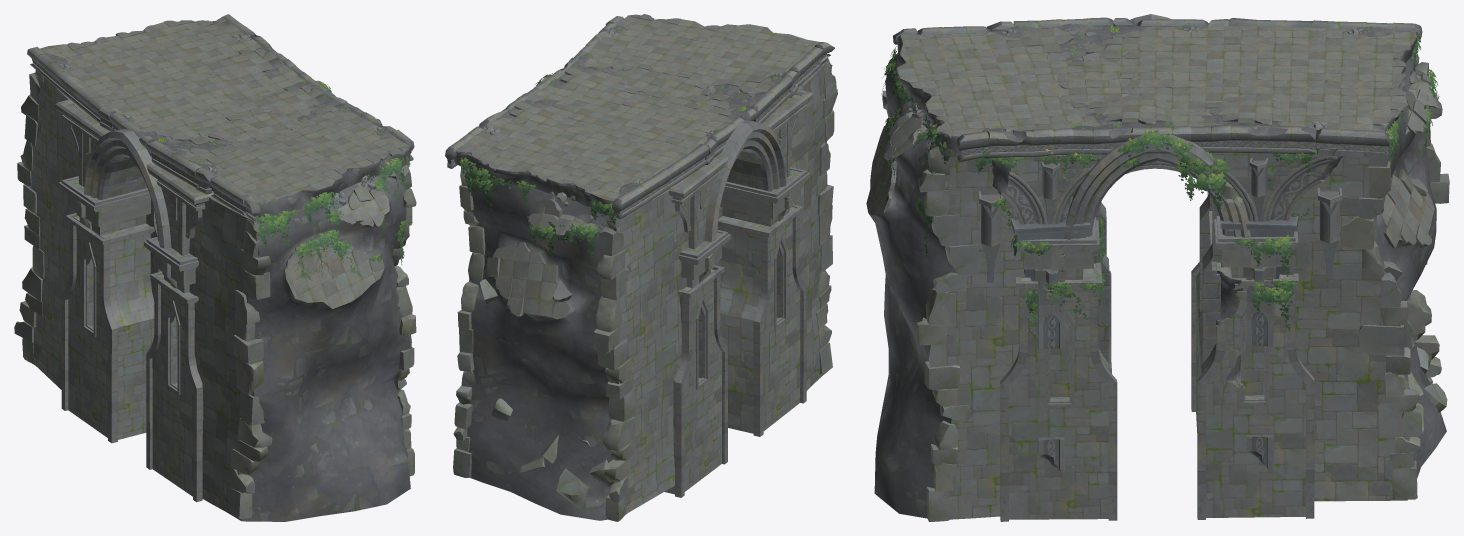
File: SkillObj_Monster_Dvalin_Platform_03.fbx
3 views of the same model, side by side, from view 1: azimuth 30°, elevation 25°; view 2: azimuth 150°, elevation 25°; view 3: azimuth 270°, elevation 25° (orthographic). The views are drawn at different scales.
Visible parts, largest first — view 1: Area_MdBuild_SdArch01_01_Wall01_Lod0, Area_MdBuild_SdBridge13_Lod0.001, Area_MdBuild_SdArch01_01_Edge01_Lod0, Area_MdBuild_SdRuins07_07_Lod0, Area_MdBuild_SdWall01_08_Lod0, Area_MdBuild_SdWall01_08_Lod0.001, Area_MdProps_SdRock01_05_Lod0.015, Area_MdProps_SdRock01_01_Lod0.016, Area_MdProps_SdRock01_01_Lod0.015, Area_MdProps_SdRock01_03_Lod0.008, Area_MdProps_SdRock01_01_Lod0.022, Area_MdBuild_SdWall03_09_Vo (+7 smaller); view 2: Area_MdBuild_SdArch01_01_Wall01_Lod0, Area_MdBuild_SdBridge13_Lod0.001, Area_MdBuild_SdArch01_01_Edge01_Lod0, Area_MdBuild_SdRuins07_07_Lod0, Area_MdBuild_SdWall01_08_Lod0, Area_MdBuild_SdWall01_08_Lod0.001, Area_MdProps_SdRock01_03_Lod0.006, Area_MdProps_SdRock01_02_Lod0.008, Area_MdProps_SdRock01_03_Lod0.001, Area_MdProps_SdRock01_01_Lod0.020, Area_MdProps_SdRock01_01_Lod0.012, Area_MdProps_SdRock01_03_Lod0.016 (+9 smaller); view 3: Area_MdBuild_SdArch01_01_Wall01_Lod0, Area_MdBuild_SdBridge13_Lod0.001, Area_MdBuild_SdArch01_01_Edge01_Lod0, Area_MdBuild_SdArch06_02_Lod0, Area_MdBuild_SdArch06_04_Lod0, Area_MdBuild_SdRuins07_07_Lod0, Area_MdBuild_SdArch06_01_Lod0, Area_MdBuild_SdWall01_08_Lod0, Area_MdProps_SdPillar02_02_Lod0, Area_MdBuild_SdWall01_08_Lod0.001, Area_MdProps_SdPillar02_02_Lod0.001, Area_MdProps_SdWall_Item01_01_Lod0.001 (+23 smaller).
Part boxes in pixels (x1,y1,x2,y2): Area_MdBuild_SdArch01_01_Wall01_Lod0: (29,77,411,521); Area_MdBuild_SdBridge13_Lod0.001: (27,14,414,220); Area_MdBuild_SdArch01_01_Edge01_Lod0: (55,80,327,502); Area_MdBuild_SdRuins07_07_Lod0: (208,109,312,142); Area_MdBuild_SdWall01_08_Lod0: (223,85,324,118); Area_MdBuild_SdWall01_08_Lod0.001: (175,49,278,82); Area_MdProps_SdRock01_05_Lod0.015: (236,357,264,394); Area_MdProps_SdRock01_01_Lod0.016: (234,335,263,364); Area_MdProps_SdRock01_01_Lod0.015: (243,270,270,299); Area_MdProps_SdRock01_03_Lod0.008: (237,418,272,447); Area_MdProps_SdRock01_01_Lod0.022: (239,390,264,425); Area_MdBuild_SdWall03_09_Vo: (176,147,228,165); Area_MdBuild_SdArch01_01_Wall01_Lod0: (466,59,831,520); Area_MdBuild_SdBridge13_Lod0.001: (445,15,834,219); Area_MdBuild_SdArch01_01_Edge01_Lod0: (540,76,813,497); Area_MdBuild_SdRuins07_07_Lod0: (611,65,710,99); Area_MdBuild_SdWall01_08_Lod0: (559,67,635,106); Area_MdBuild_SdWall01_08_Lod0.001: (509,101,584,141); Area_MdProps_SdRock01_03_Lod0.006: (602,417,635,451); Area_MdProps_SdRock01_02_Lod0.008: (596,296,622,332); Area_MdProps_SdRock01_03_Lod0.001: (556,468,588,509); Area_MdProps_SdRock01_01_Lod0.020: (608,386,636,421); Area_MdProps_SdRock01_01_Lod0.012: (597,339,628,370); Area_MdProps_SdRock01_03_Lod0.016: (596,250,625,279); Area_MdBuild_SdArch01_01_Wall01_Lod0: (866,53,1446,519); Area_MdBuild_SdBridge13_Lod0.001: (893,17,1422,162); Area_MdBuild_SdArch01_01_Edge01_Lod0: (995,14,1314,521); Area_MdBuild_SdArch06_02_Lod0: (1260,147,1343,221); Area_MdBuild_SdArch06_04_Lod0: (1049,152,1260,233); Area_MdBuild_SdRuins07_07_Lod0: (1057,53,1134,115); Area_MdBuild_SdArch06_01_Lod0: (988,157,1047,224); Area_MdBuild_SdWall01_08_Lod0: (1089,80,1176,125); Area_MdProps_SdPillar02_02_Lod0: (1024,269,1067,349); Area_MdBuild_SdWall01_08_Lod0.001: (1206,80,1290,125); Area_MdProps_SdPillar02_02_Lod0.001: (1243,267,1286,346); Area_MdProps_SdWall_Item01_01_Lod0.001: (1317,187,1342,279).
Bounding box in the file's own units: 24.87 × 35.53 × 47.25.
Materials: 15 (15 with a texture image).
